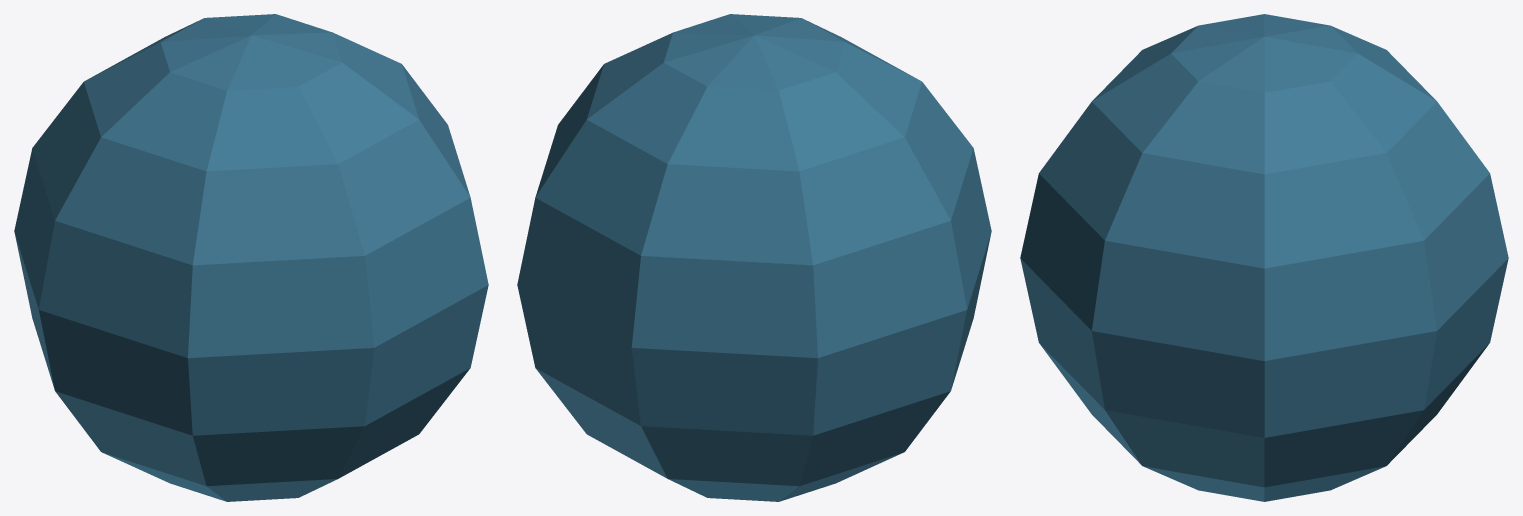
The model's file is Frog2OrbGlass.glb.
The picture shows the model from 3 angles, left to right: view 1: azimuth 30°, elevation 25°; view 2: azimuth 150°, elevation 25°; view 3: azimuth 270°, elevation 25°; orthographic projection.
Parts seen in each view (by area): view 1: CryoOrbFrogAlt.002; view 2: CryoOrbFrogAlt.002; view 3: CryoOrbFrogAlt.002.
Part boxes in pixels (x1,y1,x2,y2): CryoOrbFrogAlt.002: (14, 14, 488, 501); CryoOrbFrogAlt.002: (517, 14, 991, 501); CryoOrbFrogAlt.002: (1020, 14, 1508, 501).
Size of the model in its own units: 0.4 by 0.4 by 0.4.
Materials: 2 (2 with a texture image).
